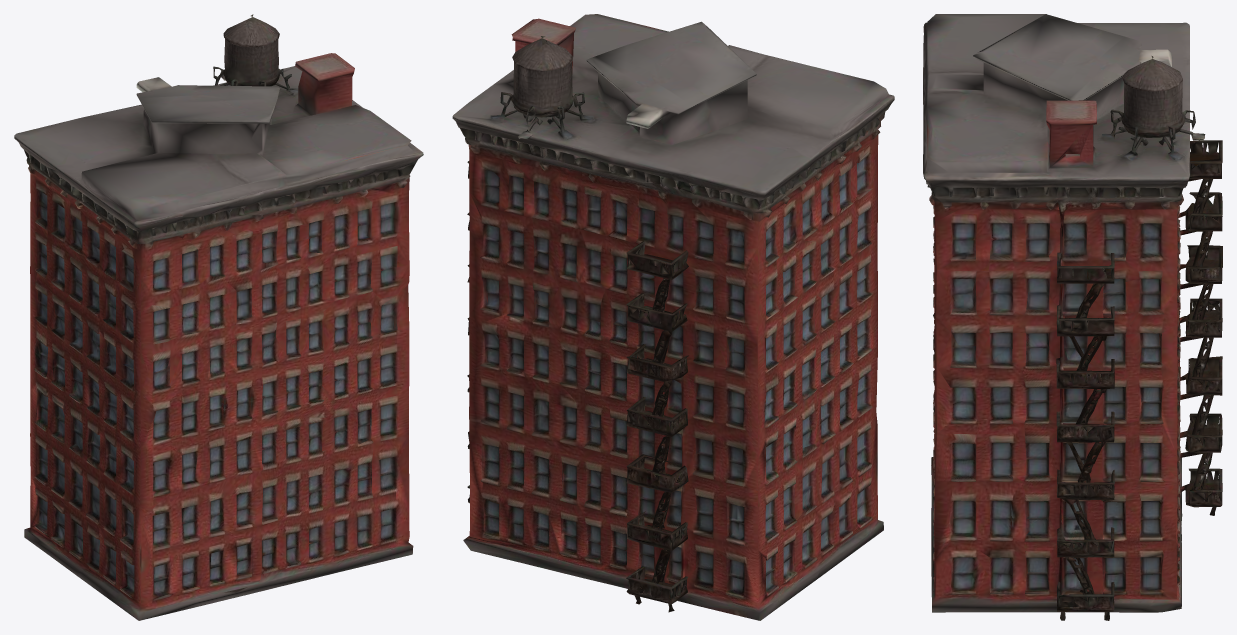
The model's file is bld0_hi.glb.
The picture shows the model from 3 angles, left to right: view 1: azimuth 30°, elevation 25°; view 2: azimuth 150°, elevation 25°; view 3: azimuth 270°, elevation 25°; orthographic projection. The views are drawn at different scales.
Parts seen in each view (by area): view 1: tripo_node_40532de7-2499-4c81-bf49-64029220e87e; view 2: tripo_node_40532de7-2499-4c81-bf49-64029220e87e; view 3: tripo_node_40532de7-2499-4c81-bf49-64029220e87e.
Part boxes in pixels (<box>): tripo_node_40532de7-2499-4c81-bf49-64029220e87e: <box>14,14,423,620</box>; tripo_node_40532de7-2499-4c81-bf49-64029220e87e: <box>452,14,894,620</box>; tripo_node_40532de7-2499-4c81-bf49-64029220e87e: <box>923,14,1222,620</box>.
Size of the model in its own units: 0.6749 by 1 by 0.518.
Materials: 1 (1 with a texture image).
